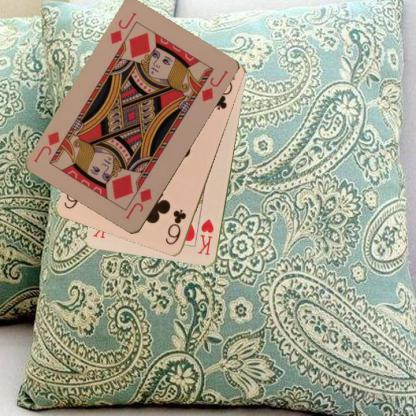6c: (163, 207, 188, 247)
Jd: (108, 10, 138, 46), (123, 186, 153, 221)
Kh: (194, 216, 216, 257)
